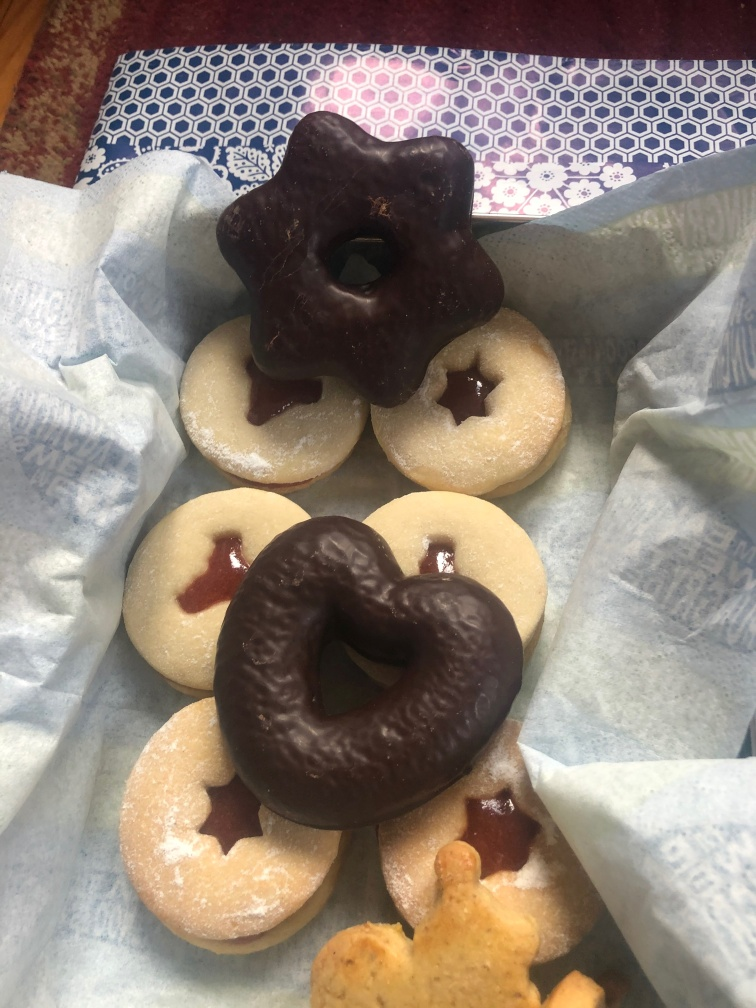christmas shortbread with jam: (120, 694, 345, 956), (383, 724, 603, 953), (123, 482, 307, 687), (377, 301, 572, 494), (179, 307, 363, 483), (362, 488, 561, 640)
heart: (211, 515, 523, 835)
santa claus: (301, 840, 553, 1008)
star: (218, 113, 505, 411)
